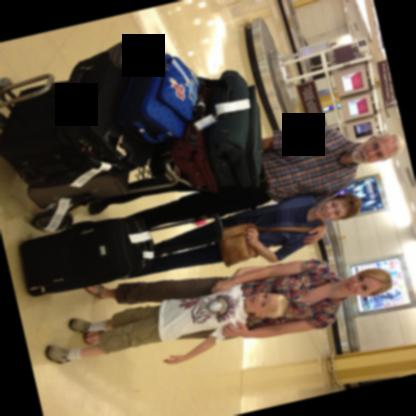backpack: (117, 54, 200, 151)
handbag: (218, 225, 311, 268)
suitcase: (16, 214, 224, 299), (67, 41, 150, 171), (0, 79, 97, 187), (115, 53, 199, 145), (206, 70, 262, 192), (170, 77, 219, 194), (25, 164, 129, 212)
